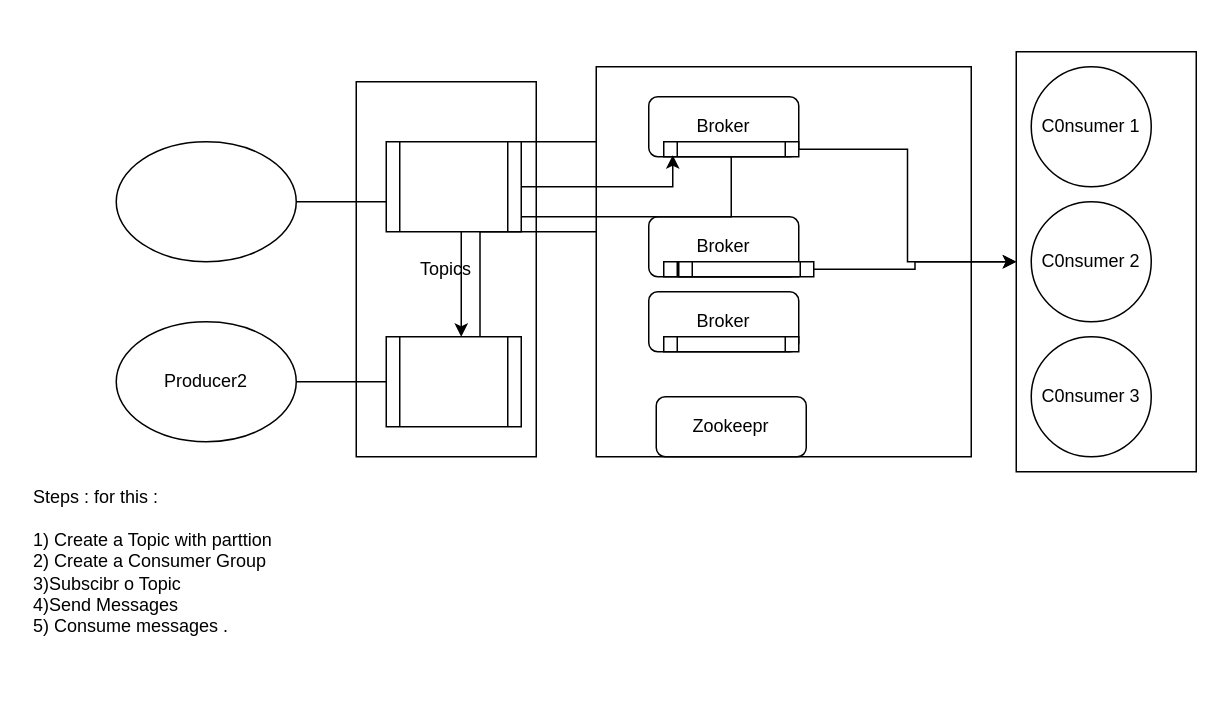
This 1223x708 diagram has some shape labels left out. Each missing label, with the box of its shape:
Consumer Group: (1015, 50, 1196, 472)
Partion 1: (385, 140, 521, 232)
Partion 2: (385, 335, 521, 427)
Producer1: (115, 140, 296, 262)
